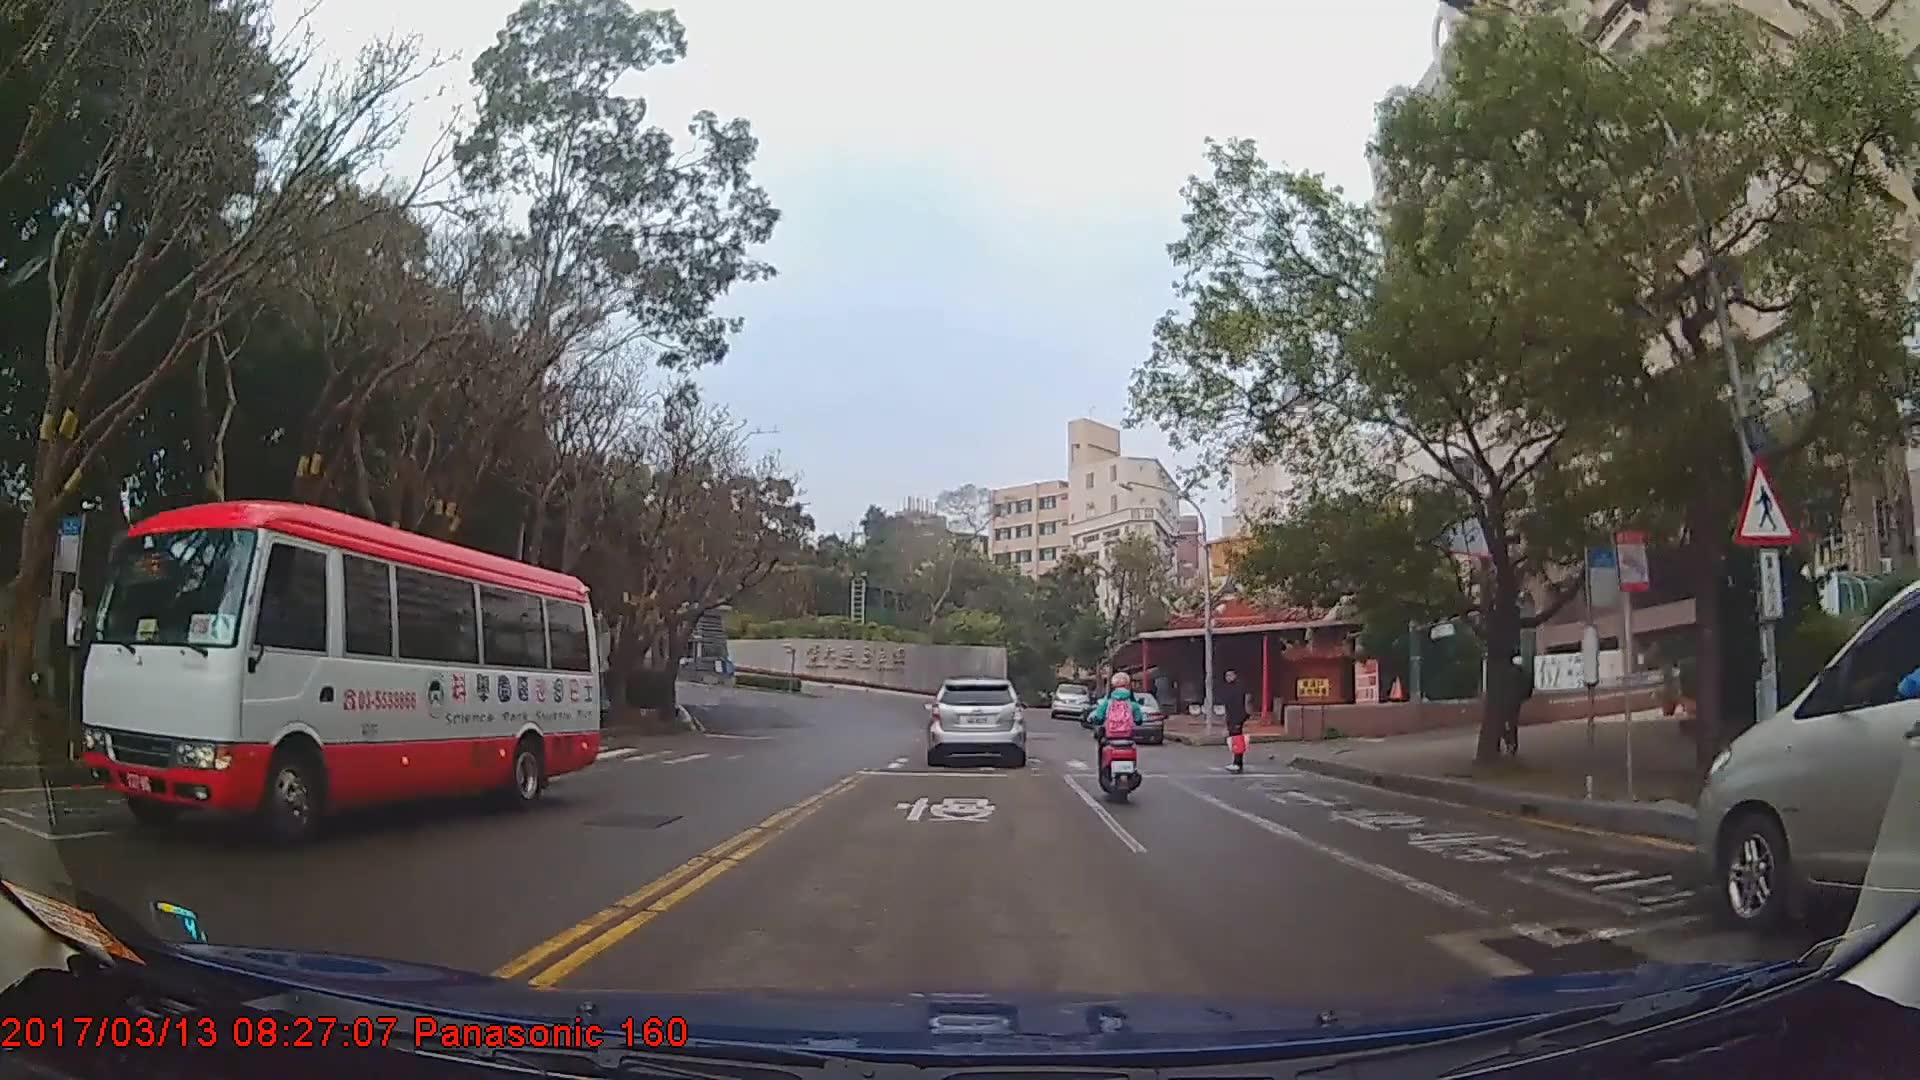pedestrian: (1221, 662, 1256, 772)
rider: (1087, 668, 1147, 800)
vehicle: (80, 498, 604, 849), (1699, 582, 1920, 932), (925, 673, 1028, 763), (1104, 688, 1164, 745), (1051, 680, 1089, 716)
